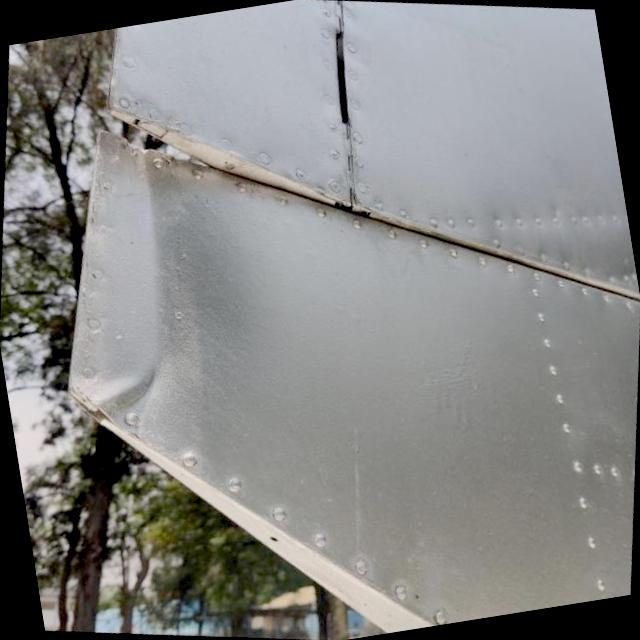dent: (68, 353, 168, 434)
